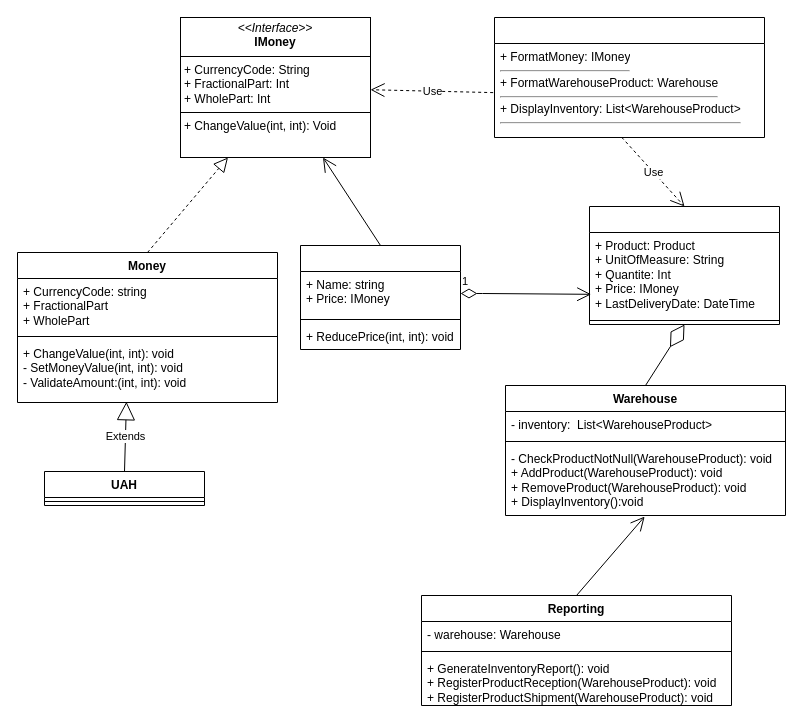
Image size: 803x726. Some labels were removed from this diagram. Here are the shapes that lost their labels. From the top down, the box of each, then its label:
(494, 16, 764, 138): FormatHelper
(588, 206, 780, 324): WarehouseProduct
(300, 244, 460, 350): Product
